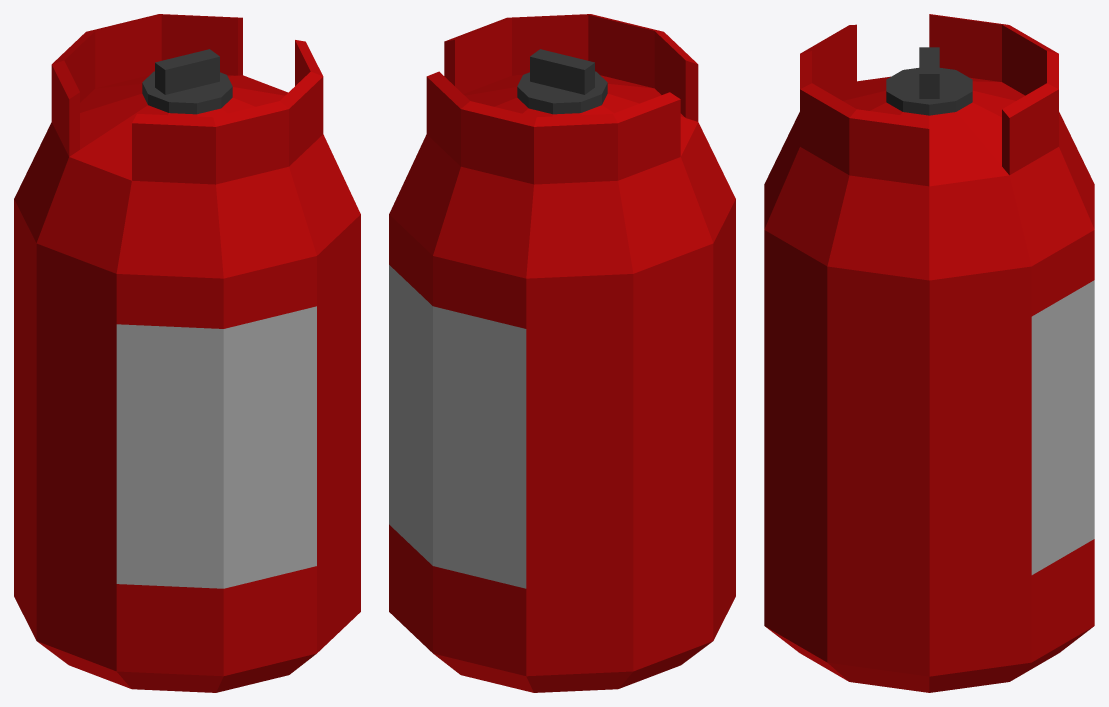
The model's file is model_canister_02.fbx.
3 views of the same model, side by side, from view 1: azimuth 30°, elevation 25°; view 2: azimuth 150°, elevation 25°; view 3: azimuth 270°, elevation 25° (orthographic).
Parts seen in each view (by area): view 1: model_canister_02; view 2: model_canister_02; view 3: model_canister_02.
Boxes of the visible parts, box(x1,y1,x2,y2) form: model_canister_02: box(14, 14, 360, 692); model_canister_02: box(389, 14, 735, 692); model_canister_02: box(764, 14, 1094, 692).
Bounding box in the file's own units: 34.84 × 63.58 × 33.13.
1 material, 1 textured.
